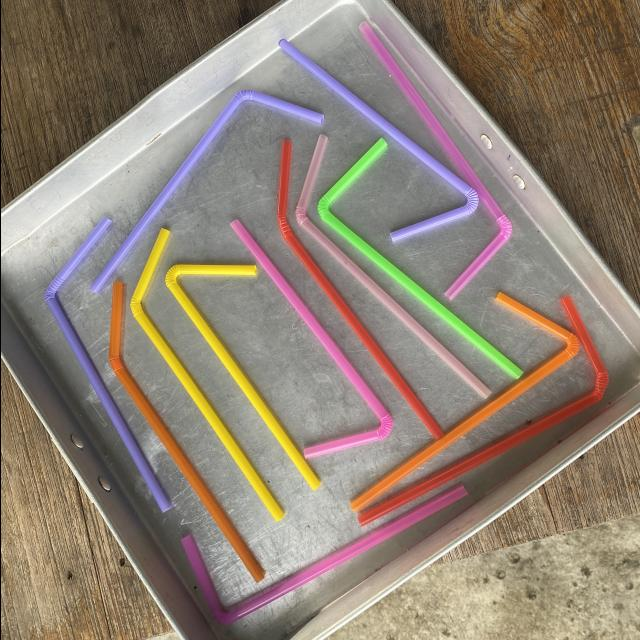plastik: (357, 297, 607, 526), (294, 135, 489, 399), (350, 293, 578, 512), (276, 140, 441, 436), (317, 139, 521, 378), (89, 90, 323, 292), (107, 282, 263, 581), (130, 229, 282, 521), (361, 23, 511, 300), (279, 40, 478, 241), (181, 485, 465, 625), (229, 220, 392, 458), (44, 217, 169, 512), (164, 264, 319, 489)
